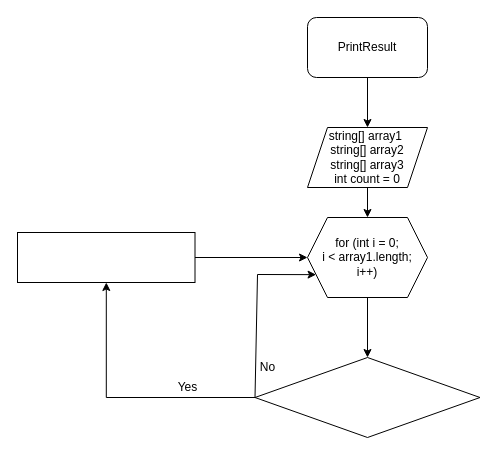
The diagram is 498 pixels wide and 455 high, and some of its shapes have lost their labels. The box of each missing label's shape, as (x1, y1, x2, y2) in pixels:
if (array[i].length <= 3): (254, 356, 480, 438)
result[count] = array[i] count++;: (16, 232, 195, 282)
